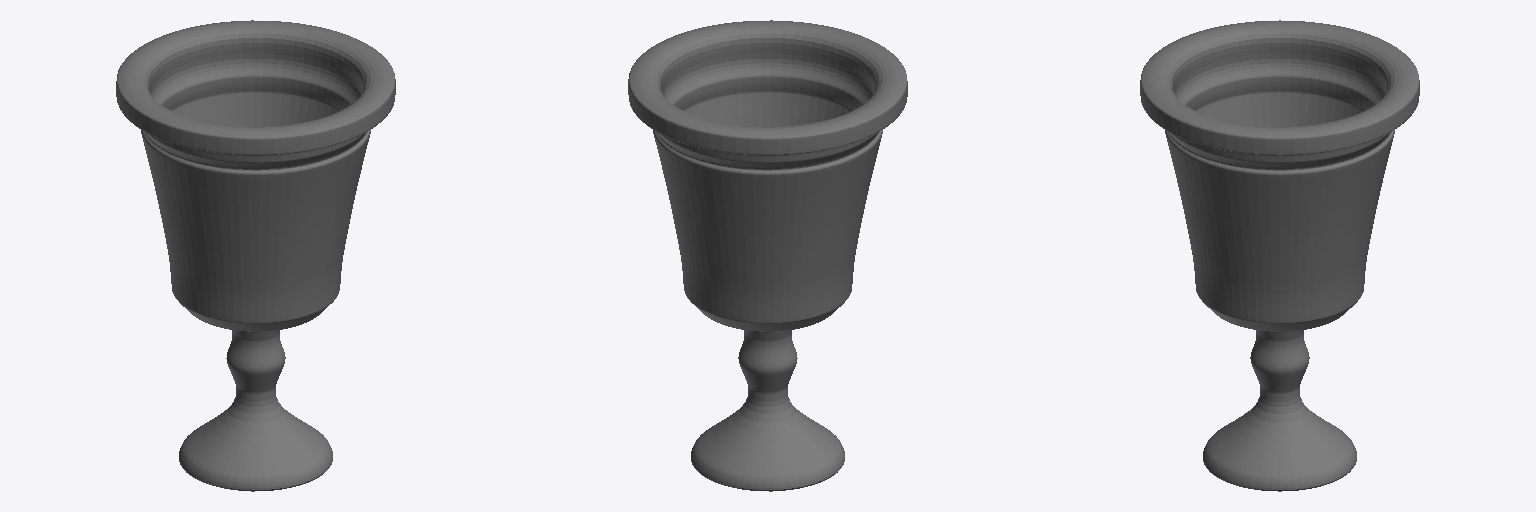
robot.urdf — object:
<?xml version="1.0"?>
<robot name="object">
  <link name="object">
    <visual>
      <origin xyz="0 0 0"/>
      <geometry>
        <mesh
          filename="../../mesh/oakink_virtual/wineglass_19.stl" />
      </geometry>
      <material name="mat">
        <color rgba="0.5 0.5 0.5 1"/>
      </material>
    </visual>

    <collision>
      <origin xyz="0 0 0"/>
      <geometry>
        <mesh
          filename="../../mesh/oakink_virtual/wineglass_19.stl" />
      </geometry>
    </collision>
  </link>
</robot>

--- Render facts (derived) ---
3 views of the same robot in one strip: view 1: azimuth 30°, elevation 25°; view 2: azimuth 150°, elevation 25°; view 3: azimuth 270°, elevation 25° (orthographic).
Model object with 1 links and 0 joints (none), rooted at object, posed all joints at 0.
Visible links, largest first — view 1: object; view 2: object; view 3: object.
Link boxes in pixels (x1=…): object: x1=116, y1=20, x2=395, y2=491; object: x1=628, y1=20, x2=907, y2=491; object: x1=1140, y1=20, x2=1419, y2=491.
Bounding box of the posed robot: 0.1053 × 0.1053 × 0.1604 m (x, y, z).
Meshes: 1 distinct files referenced, 1 mesh visuals loaded (1 binary STL).
